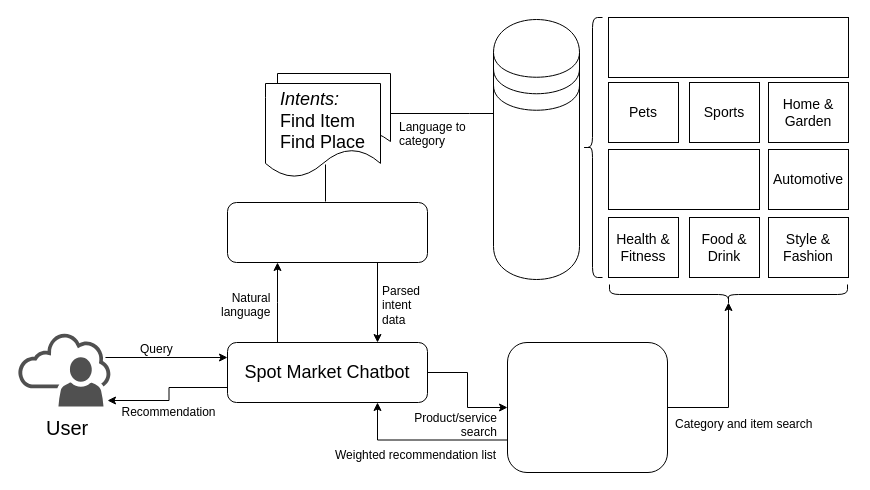
This 870x490 diagram has some shape labels left out. The centre of each missing label's shape, as x and y in pixels:
"Arts & Entertainment" belongs at point 684,179.
"Hobbies & Interests" belongs at point 728,47.
"IAB Categories" belongs at point 536,149.
"Natural Language Processing (NLP)" belongs at point 327,232.
"Spot Market Recommendation Engine" belongs at point 587,407.
